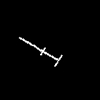double_crochet: (20, 38, 61, 65)
